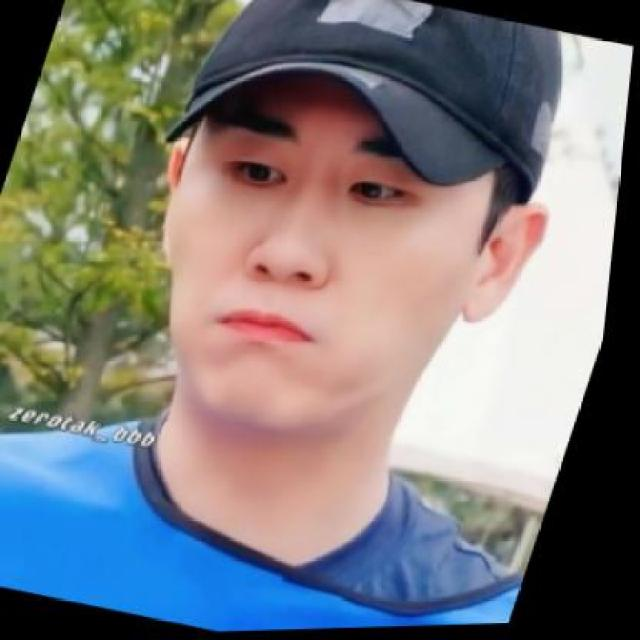hat: (157, 0, 594, 238)
